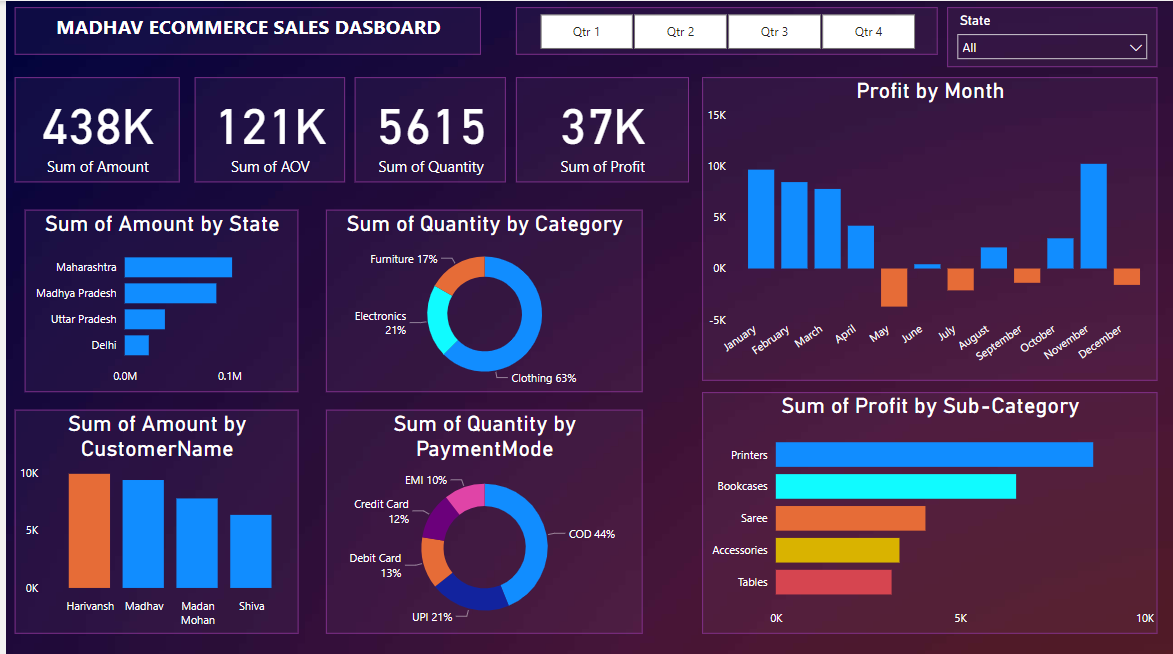

The page's visual inventory and layout, read from the dashboard file:
{"tool":"powerbi","page":{"name":"Page 1","canvas":[1280,720],"ordinal":0},"visuals":[{"type":"textbox","box":[9.6,6.9,511.4,52.1],"z":0},{"type":"columnChart","title":"Profit by Month","fields":{"Category":["Orders.Order Date.Variation.Date Hierarchy.Month"],"Y":["Details.Profit"]},"box":[763.7,83.6,499.1,333.2],"z":2},{"type":"barChart","fields":{"Category":["Details.Sub-Category"],"Y":["Details.Profit"]},"box":[763.7,429.1,499.1,264.6],"z":3},{"type":"donutChart","fields":{"Category":["Details.Category"],"Y":["Details.Quantity"]},"box":[351,229,346.9,200.2],"z":4},{"type":"donutChart","fields":{"Y":["Details.Quantity"],"Category":["Details.PaymentMode"]},"box":[351,448.3,346.9,245.4],"z":5},{"type":"card","fields":{"Values":["Details.Amount"]},"box":[9.6,83.6,181,115.2],"z":6},{"type":"card","fields":{"Values":["Details.Quantity"]},"box":[382.5,83.6,165.9,115.2],"z":7},{"type":"card","fields":{"Values":["Details.Profit"]},"box":[559.4,83.6,189.2,115.2],"z":8},{"type":"card","fields":{"Values":["Details.AOV"]},"box":[207,83.6,164.5,115.2],"z":9},{"type":"barChart","fields":{"Category":["Orders.State"],"Y":["Details.Amount"]},"box":[20.6,229,300.3,200.2],"z":10},{"type":"columnChart","fields":{"Category":["Orders.CustomerName"],"Y":["Details.Amount"]},"box":[9.6,448.3,311.2,245.4],"z":11},{"type":"slicer","fields":{"Values":["Orders.Order Date.Variation.Date Hierarchy.Quarter"]},"box":[559.4,6.9,462,52.1],"z":12},{"type":"slicer","fields":{"Values":["Orders.State"]},"box":[1032.4,6.9,230.3,65.8],"z":13}]}

Visuals, with their boxes in screenshot pixels (x1, y1, x2, y2), scaled from the page's 1280x720 canvas onto the 1173x654 screenshot:
textbox: x1=9, y1=6, x2=477, y2=54
"Profit by Month" columnChart: x1=700, y1=76, x2=1157, y2=379
barChart - Details.Sub-Category x Details.Profit: x1=700, y1=390, x2=1157, y2=630
donutChart - Details.Category x Details.Quantity: x1=322, y1=208, x2=640, y2=390
donutChart - Details.Quantity x Details.PaymentMode: x1=322, y1=407, x2=640, y2=630
card - Details.Amount: x1=9, y1=76, x2=175, y2=181
card - Details.Quantity: x1=351, y1=76, x2=503, y2=181
card - Details.Profit: x1=513, y1=76, x2=686, y2=181
card - Details.AOV: x1=190, y1=76, x2=340, y2=181
barChart - Orders.State x Details.Amount: x1=19, y1=208, x2=294, y2=390
columnChart - Orders.CustomerName x Details.Amount: x1=9, y1=407, x2=294, y2=630
slicer - Orders.Order Date.Variation.Date Hierarchy.Quarter: x1=513, y1=6, x2=936, y2=54
slicer - Orders.State: x1=946, y1=6, x2=1157, y2=66
